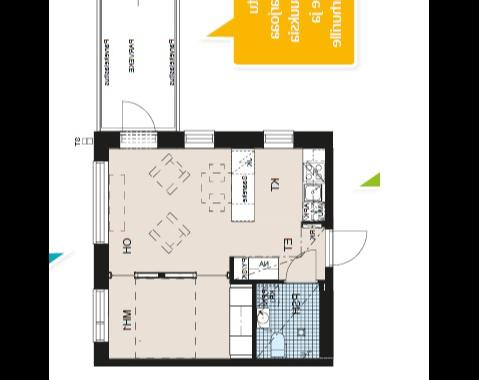bathroom: (255, 281, 320, 358)
door: (120, 98, 160, 148), (326, 228, 368, 267), (284, 248, 320, 286)
perimeter: (97, 0, 335, 365)
window: (92, 156, 112, 248), (91, 284, 113, 345), (260, 127, 298, 150), (184, 127, 218, 150)
